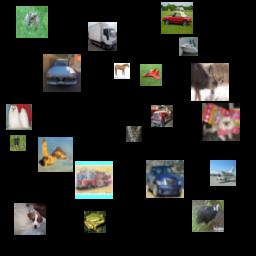airplane: (38, 137, 73, 172), (210, 160, 236, 186), (140, 64, 162, 86)
automobile: (146, 160, 184, 198), (43, 54, 81, 92), (161, 2, 193, 34)
bird: (192, 200, 224, 232)
cat: (126, 126, 142, 142)
deer: (191, 63, 229, 101), (16, 6, 48, 38)
dog: (202, 103, 240, 141), (14, 203, 46, 235), (6, 104, 32, 130), (10, 135, 26, 151)
frog: (84, 211, 106, 233)
ship: (179, 37, 198, 56)
truck: (75, 161, 113, 199), (88, 22, 117, 51), (151, 105, 173, 127)
